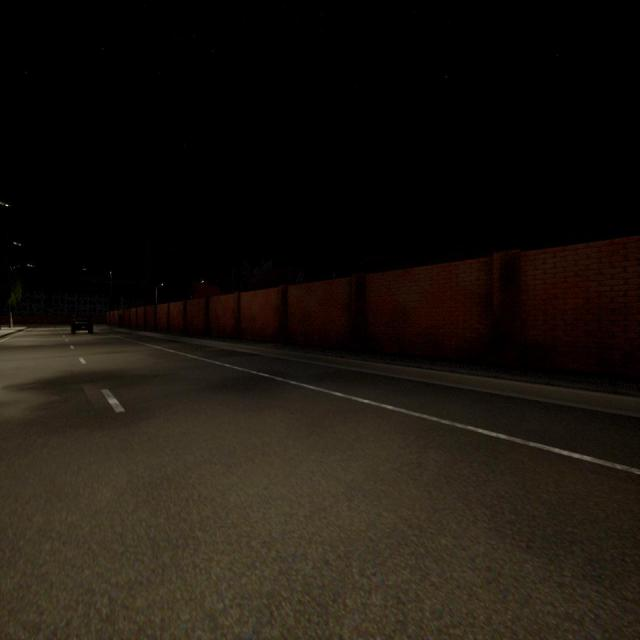Vehicle: (71, 316, 93, 334)
